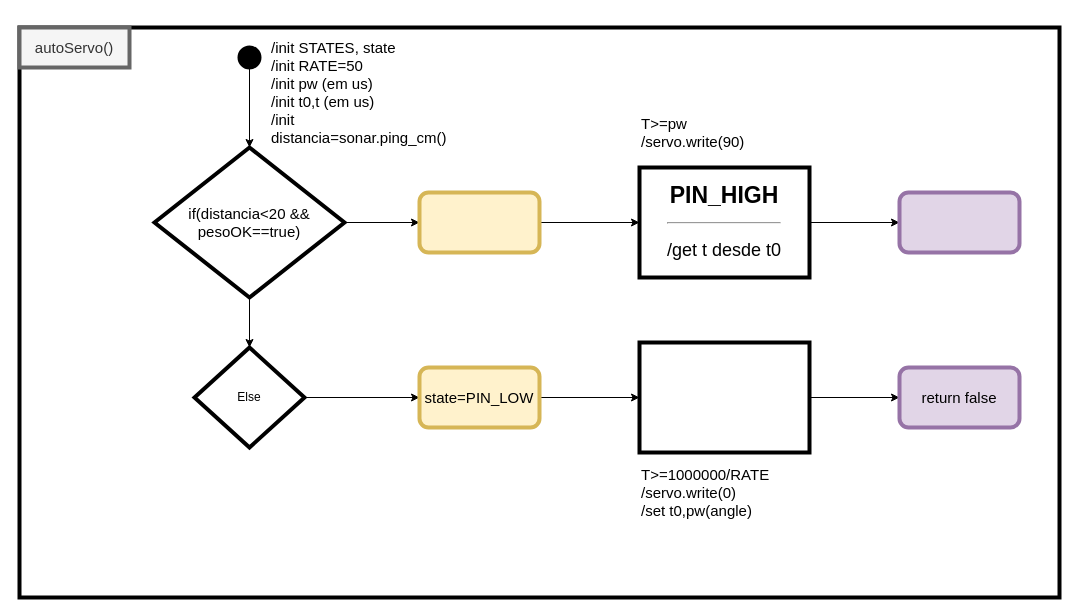
The diagram is 1078 pixels wide and 616 high, and some of its shapes have lost their labels. Here are the shapes that lost their labels. From the top down, the centre of each, then its label:
(x=479, y=222): state=PIN_HIGH
(x=959, y=222): return true
(x=724, y=397): PIN_LOW /get t desde t0
